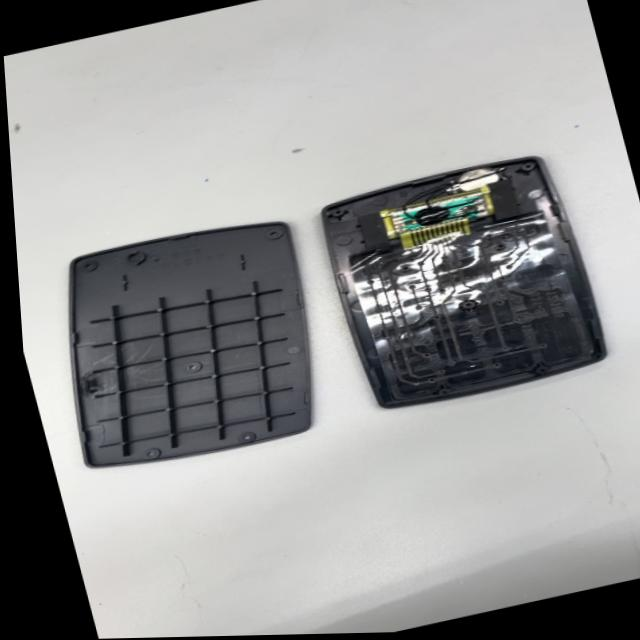back_cover: (20, 203, 355, 488)
front_panel: (313, 142, 618, 421)
